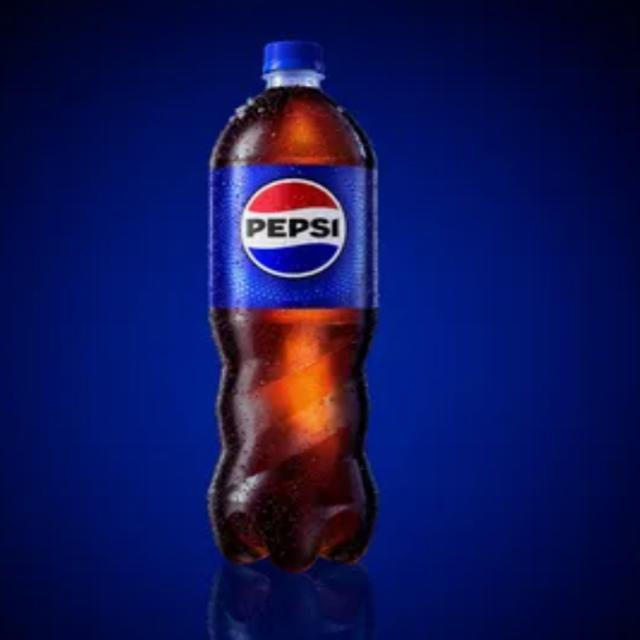supermarket-product: (218, 155, 459, 350)
